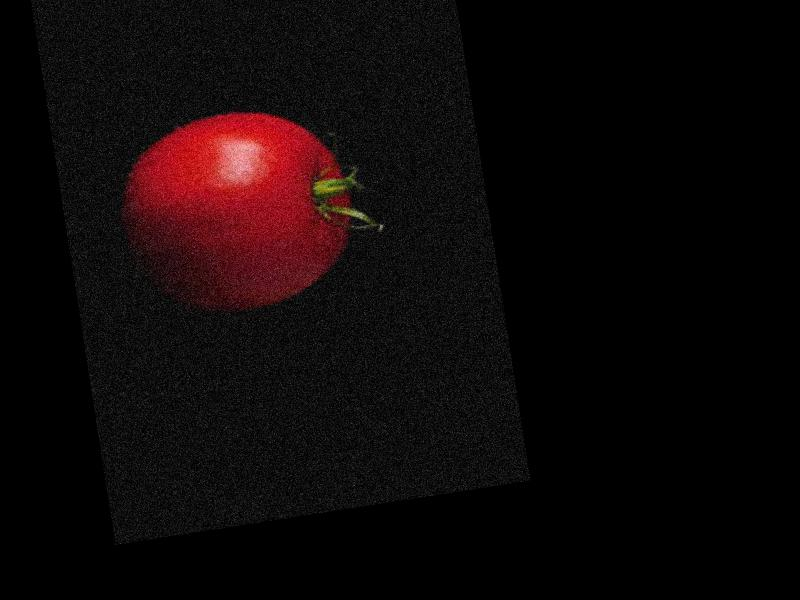Tomato: (116, 98, 364, 324)
